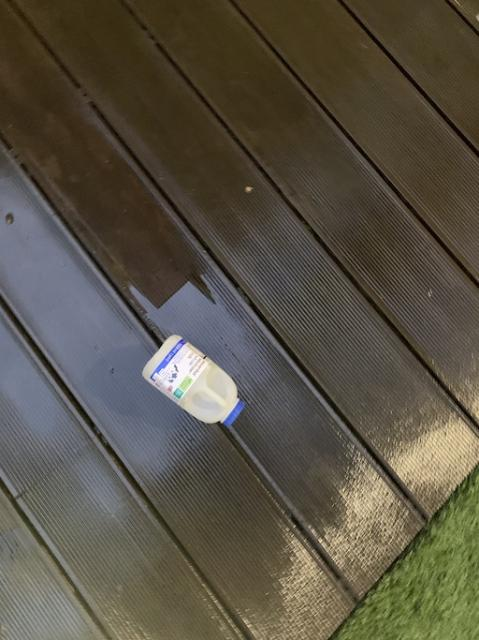plastic: (141, 334, 243, 424)
